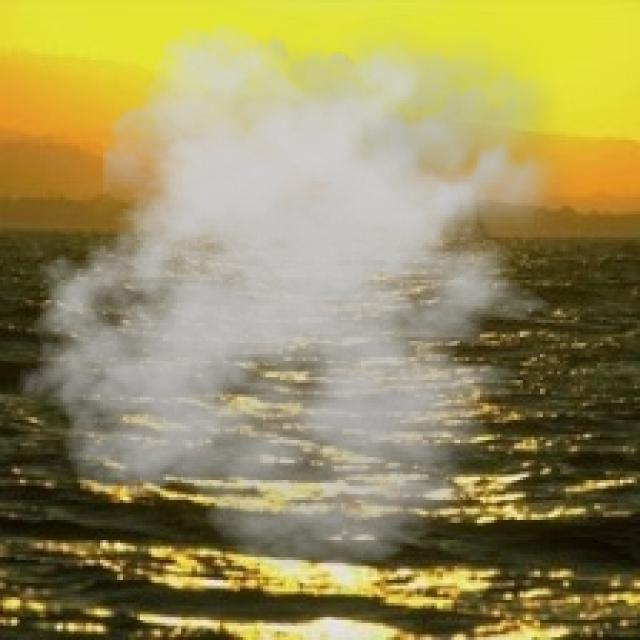Smoke: (17, 6, 586, 572)
